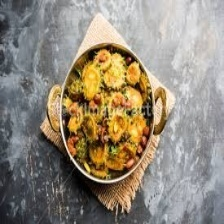sabzi: (59, 43, 154, 184)
